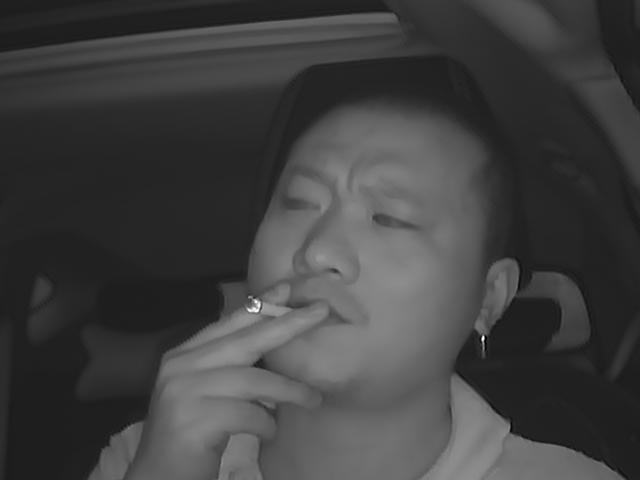hand: (162, 281, 334, 456)
